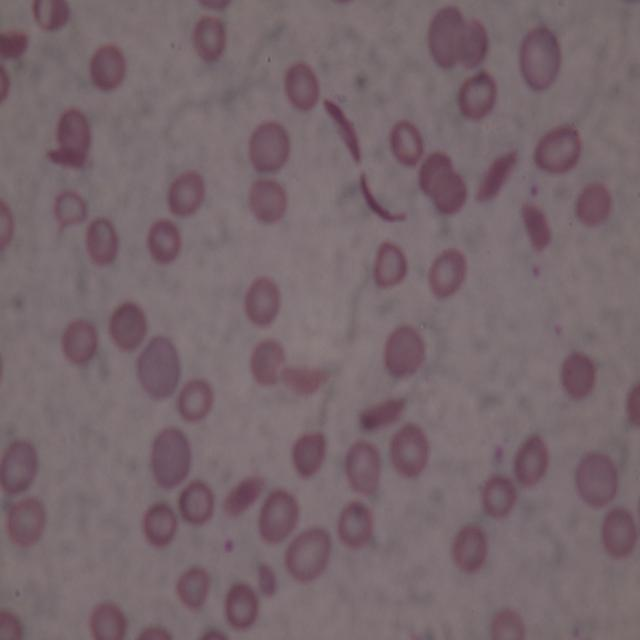Crystal: (476, 146, 518, 210), (518, 199, 554, 254), (222, 474, 264, 517), (360, 392, 407, 429), (46, 146, 94, 172), (0, 28, 32, 64)
Normal: (423, 246, 470, 301), (513, 429, 550, 492), (0, 436, 38, 495), (391, 424, 432, 478), (166, 169, 205, 220), (242, 274, 279, 327), (602, 506, 638, 560), (177, 480, 216, 528), (191, 14, 225, 68), (283, 64, 320, 113), (84, 218, 119, 268), (61, 317, 95, 367), (480, 474, 520, 516), (143, 502, 178, 549), (178, 377, 214, 422), (146, 217, 180, 263), (227, 583, 256, 630), (491, 612, 527, 638), (0, 604, 27, 638)
Others: (518, 19, 562, 92), (282, 526, 332, 586), (426, 1, 464, 72), (138, 332, 180, 396), (150, 424, 192, 487), (533, 126, 582, 177), (575, 448, 619, 504), (249, 118, 290, 176), (449, 520, 489, 579), (261, 484, 300, 544), (382, 326, 427, 378), (557, 347, 597, 403), (344, 438, 382, 496), (7, 496, 47, 548), (371, 238, 408, 292), (574, 180, 612, 232), (90, 42, 127, 95), (337, 501, 377, 548), (248, 177, 288, 224), (457, 72, 496, 120), (249, 338, 285, 389), (54, 107, 90, 158), (110, 302, 147, 351), (175, 561, 211, 611), (420, 148, 455, 198), (389, 120, 425, 168), (432, 170, 466, 219), (292, 430, 325, 478), (54, 185, 88, 230), (460, 15, 487, 70), (30, 0, 70, 35), (91, 602, 125, 640)
Sickle: (355, 166, 407, 232), (322, 96, 364, 166), (277, 360, 335, 401)
